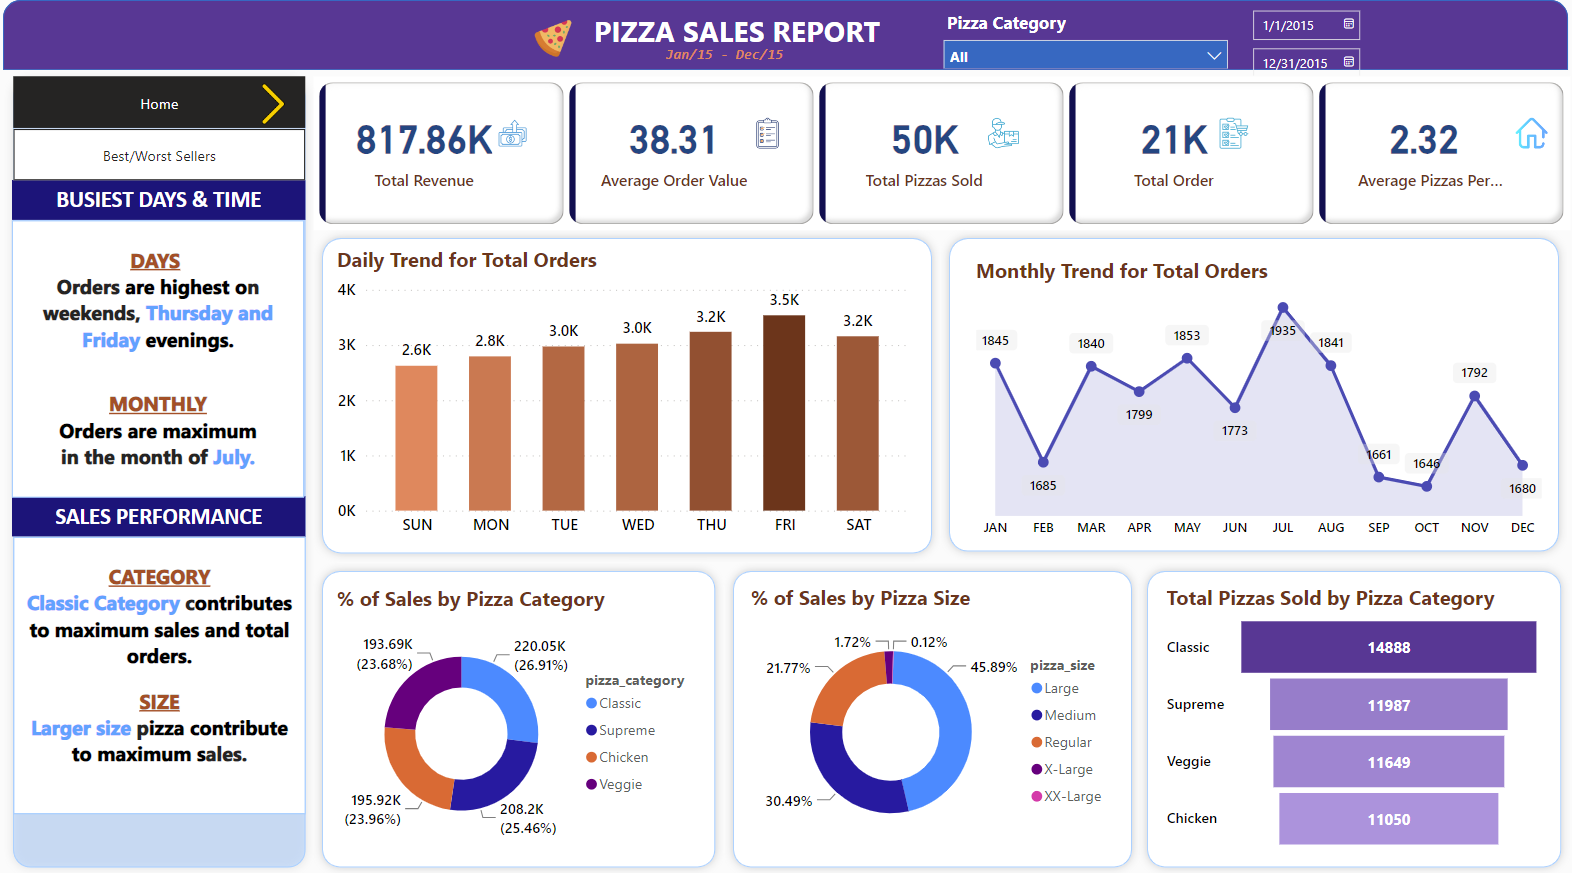

The dashboard page shown, as its layout file describes it:
{"tool":"powerbi","page":{"name":"Home","canvas":[1500,820],"ordinal":0},"visuals":[{"type":"cardVisual","fields":{"Data":["pizza_sales.Total Revenue","pizza_sales.Average Order Value","pizza_sales.Total Pizzas Sold","pizza_sales.Total Order","pizza_sales.Average Pizzas Per Order"]},"box":[307,71,1176.5,143.7],"z":0},{"type":"shape","box":[17.2,0,1465.1,65.6],"z":1000},{"type":"textbox","box":[543,5.3,321.2,47.9],"z":2000},{"type":"textbox","box":[612.2,35.5,159.7,35.5],"z":3000},{"type":"image","box":[406.4,12.4,252,46.1],"z":4000},{"type":"shape","box":[307.7,215.2,587,311.3],"z":5000},{"type":"columnChart","title":"Daily Trend for Total Orders","fields":{"Category":["pizza_sales.Order Day"],"Y":["pizza_sales.Total Order"]},"box":[324.7,230.7,546.5,280.4],"z":6000},{"type":"shape","box":[894.7,215.2,587,309.5],"z":7000},{"type":"areaChart","title":"Monthly Trend for Total Orders","fields":{"Y":["pizza_sales.Total Order"],"Category":["pizza_sales.Order Month"]},"box":[922.7,239.6,539.4,271.5],"z":8000},{"type":"shape","box":[307.7,526.5,384.2,293.5],"z":9000},{"type":"shape","box":[17.8,65.8,289.9,754.2],"z":10000},{"type":"shape","box":[691.9,526.5,389.5,293.5],"z":11000},{"type":"shape","box":[1079.7,526.5,403.8,293.5],"z":12000},{"type":"donutChart","title":"% of Sales by Pizza Category","fields":{"Category":["pizza_sales.pizza_category"],"Y":["pizza_sales.Total Revenue"]},"box":[324.9,548.2,351.4,253],"z":13000},{"type":"donutChart","title":"% of Sales by Pizza Size","fields":{"Y":["pizza_sales.Total Revenue"],"Category":["pizza_sales.pizza_size"]},"box":[712.2,546.7,351.4,253],"z":14000},{"type":"funnel","title":"Total Pizzas Sold by Pizza Category","fields":{"Y":["pizza_sales.Total Pizzas Sold"],"Category":["pizza_sales.pizza_category"]},"box":[1101,546.1,361.1,254.3],"z":15000},{"type":"textbox","box":[25,465.4,274.9,37.5],"z":16000},{"type":"textbox","box":[25,206.2,273.3,259.3],"z":17000},{"type":"textbox","box":[25,168.7,274.9,37.5],"z":18000},{"type":"textbox","box":[26.6,502.9,273.3,259.3],"z":19000},{"type":"slicer","fields":{"Values":["pizza_sales.pizza_category"]},"box":[888,4.4,285.7,59.8],"z":20000},{"type":"slicer","fields":{"Values":["pizza_sales.order_date"]},"box":[1173.7,0,219.2,70.9],"z":21000},{"type":"pageNavigator","box":[26.6,71.8,273.3,48.4],"z":22000},{"type":"pageNavigator","box":[26.6,120.3,273.3,48.4],"z":23000},{"type":"image","box":[242.1,73.4,56.2,48.4],"z":24000}]}

Visuals, with their boxes in screenshot pixels (x1, y1, x2, y2), scaled from the page's 1500x820 canvas onto the 1572x873 screenshot:
cardVisual - pizza_sales.Total Revenue x pizza_sales.Average Order Value: [322,76,1555,229]
shape: [18,0,1553,70]
textbox: [569,6,906,57]
textbox: [642,38,809,76]
image: [426,13,690,62]
shape: [322,229,938,561]
"Daily Trend for Total Orders" columnChart: [340,246,913,544]
shape: [938,229,1553,559]
"Monthly Trend for Total Orders" areaChart: [967,255,1532,544]
shape: [322,561,725,872]
shape: [19,70,322,872]
shape: [725,561,1133,872]
shape: [1132,561,1555,872]
"% of Sales by Pizza Category" donutChart: [340,584,709,853]
"% of Sales by Pizza Size" donutChart: [746,582,1115,851]
"Total Pizzas Sold by Pizza Category" funnel: [1154,581,1532,852]
textbox: [26,495,314,535]
textbox: [26,220,313,496]
textbox: [26,180,314,220]
textbox: [28,535,314,811]
slicer - pizza_sales.pizza_category: [931,5,1230,68]
slicer - pizza_sales.order_date: [1230,0,1460,75]
pageNavigator: [28,76,314,128]
pageNavigator: [28,128,314,180]
image: [254,78,313,130]
